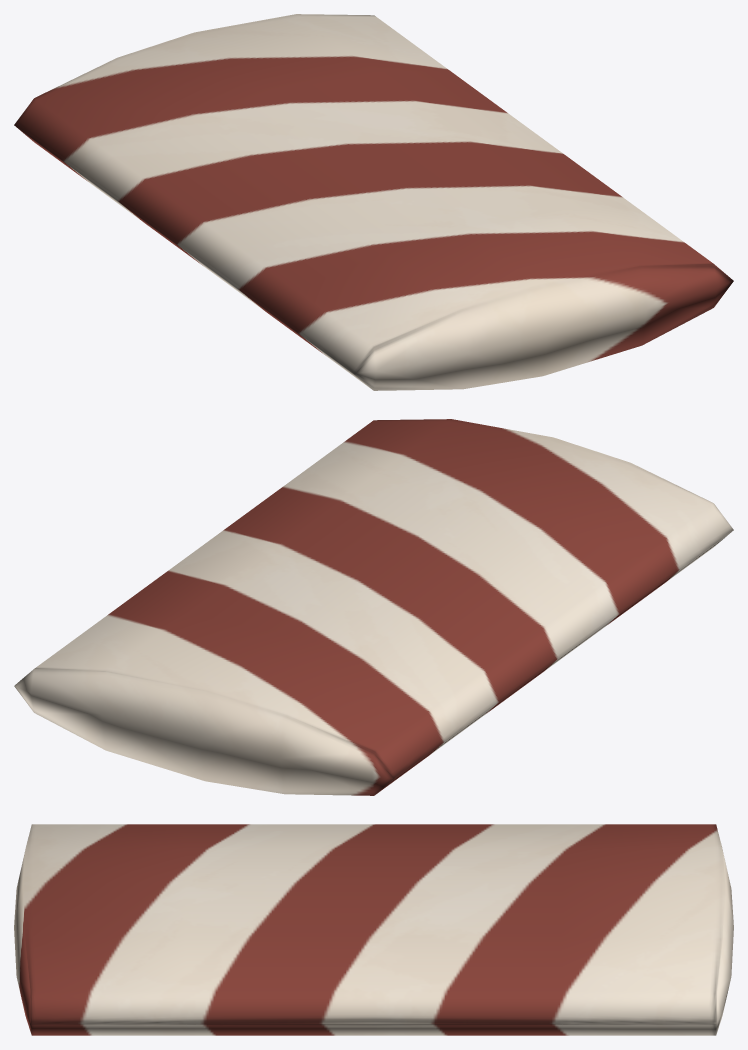
The model's file is pillow2.fbx.
3 renders of one model, top to bottom at view 1: azimuth 30°, elevation 25°; view 2: azimuth 150°, elevation 25°; view 3: azimuth 270°, elevation 25°, orthographic.
Visible parts, largest first — view 1: polySurface1548; view 2: polySurface1548; view 3: polySurface1548.
Boxes of the visible parts, x1,y1,x2,y2 form: polySurface1548: (14, 14, 733, 390); polySurface1548: (14, 419, 733, 795); polySurface1548: (14, 824, 733, 1035).
Bounding box in the file's own units: 0.4724 × 0.1055 × 0.7688.
